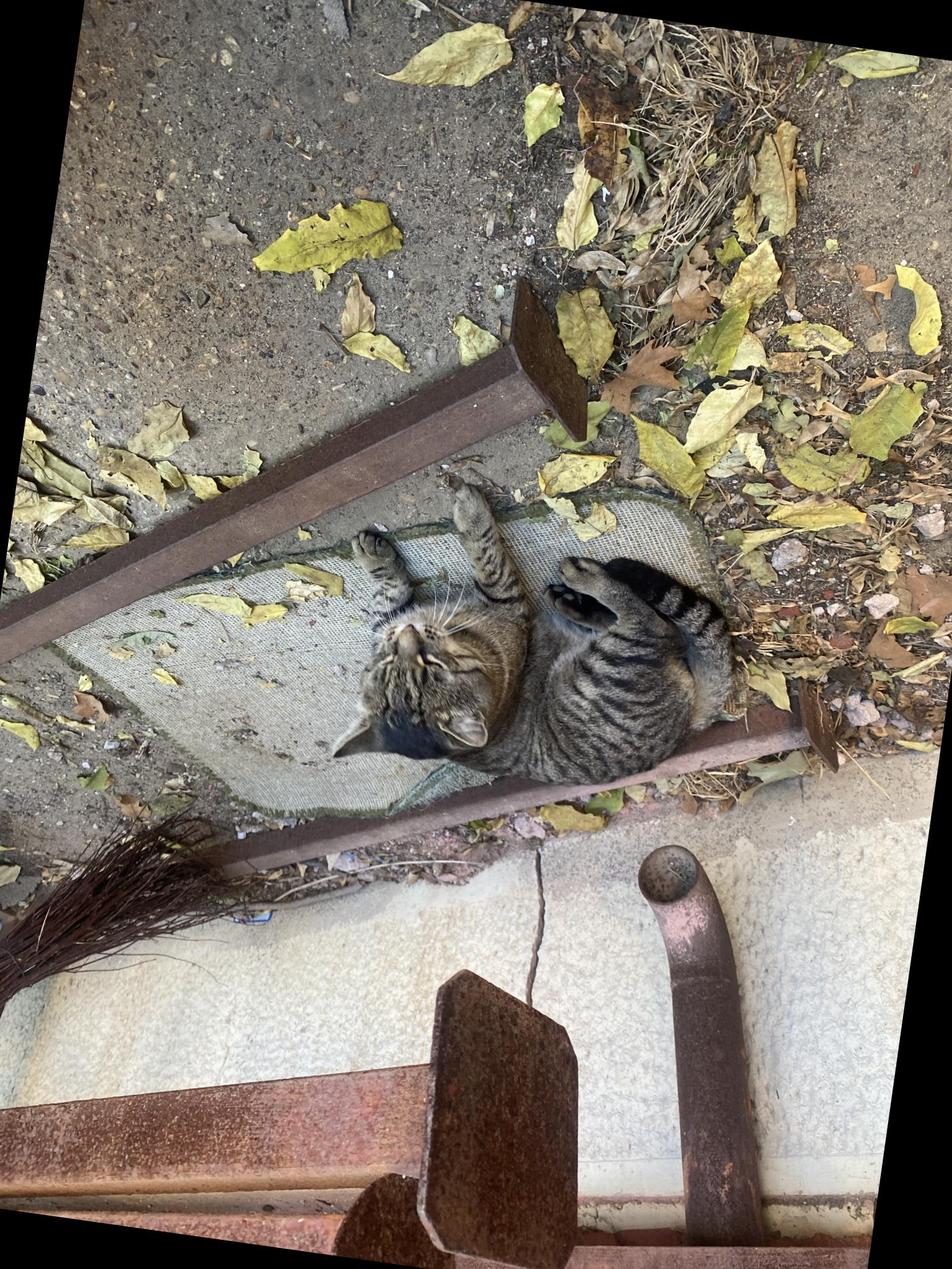macka: (324, 470, 754, 807)
